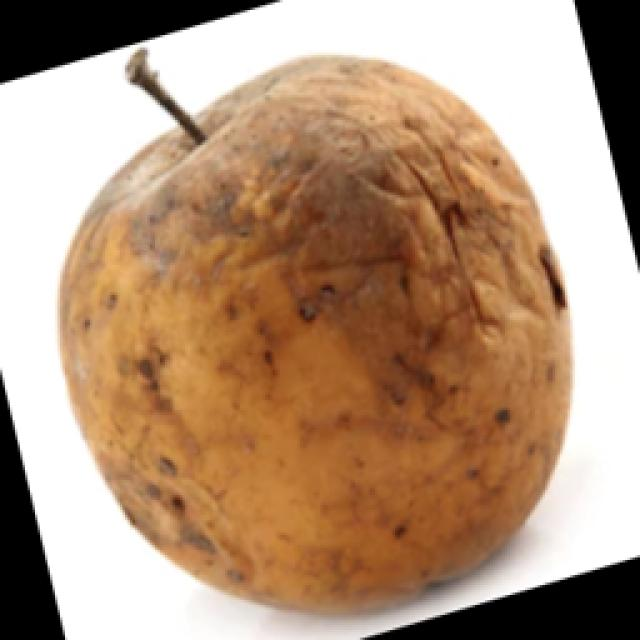Rotten_Apple: (44, 27, 640, 640)
